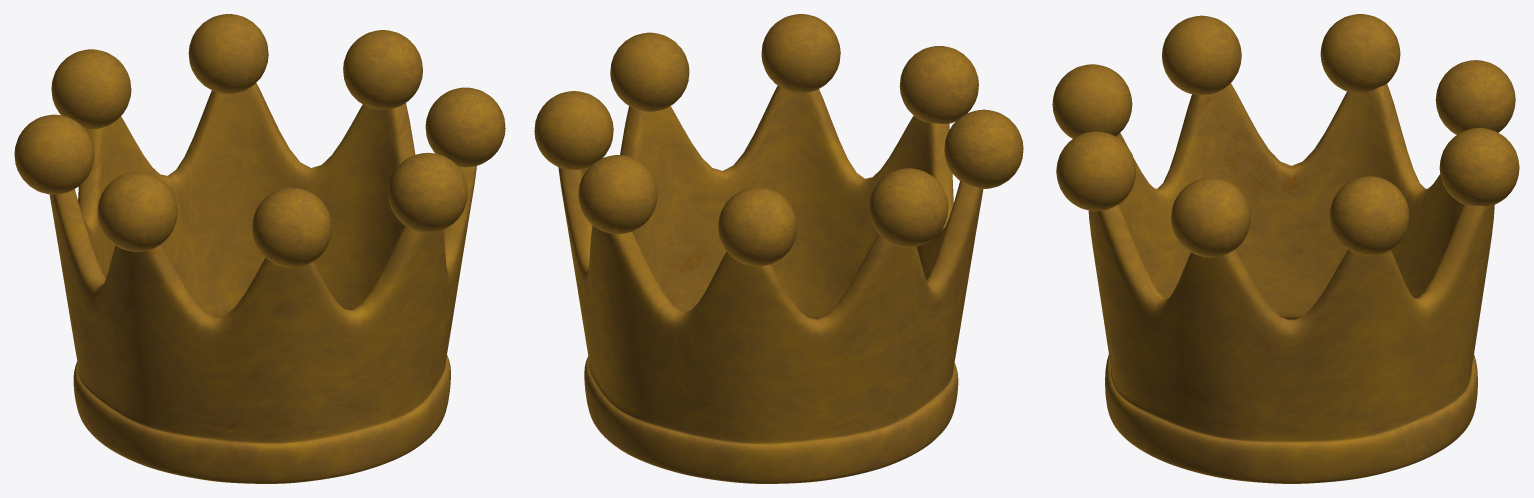
The model's file is little_crown.glb.
The picture shows the model from 3 angles, left to right: view 1: azimuth 30°, elevation 25°; view 2: azimuth 150°, elevation 25°; view 3: azimuth 270°, elevation 25°; orthographic projection.
Visible parts, largest first — view 1: Cylinder_1, Sphere_0; view 2: Cylinder_1, Sphere_0; view 3: Cylinder_1, Sphere_0.
Part boxes in pixels (x1,y1,x2,y2): Cylinder_1: [49, 83, 476, 483]; Sphere_0: [14, 14, 505, 267]; Cylinder_1: [558, 85, 983, 483]; Sphere_0: [534, 14, 1023, 266]; Cylinder_1: [1088, 83, 1494, 483]; Sphere_0: [1052, 14, 1519, 257].
Size of the model in its own units: 3.54 by 2.56 by 3.53.
Materials: 1 (1 with a texture image).
